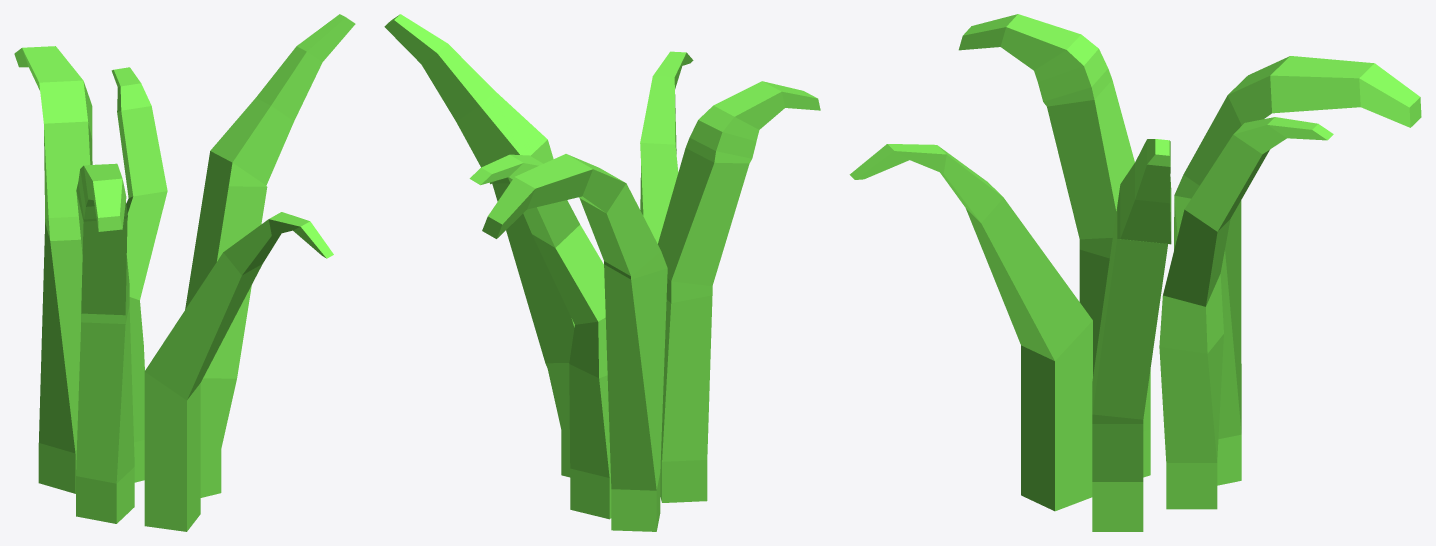
Rendered from grass_2.obj.
The picture shows the model from 3 angles, left to right: view 1: azimuth 30°, elevation 25°; view 2: azimuth 150°, elevation 25°; view 3: azimuth 270°, elevation 25°; orthographic projection. The views are drawn at different scales.
Visible parts, largest first — view 1: Grass_Cube; view 2: Grass_Cube; view 3: Grass_Cube.
Part boxes in pixels (left/top/right/bottom): Grass_Cube: left=14, top=14, right=355, bottom=531; Grass_Cube: left=384, top=14, right=820, bottom=531; Grass_Cube: left=849, top=14, right=1421, bottom=531.
Bounding box in the file's own units: 17.57 × 20.72 × 22.47.
